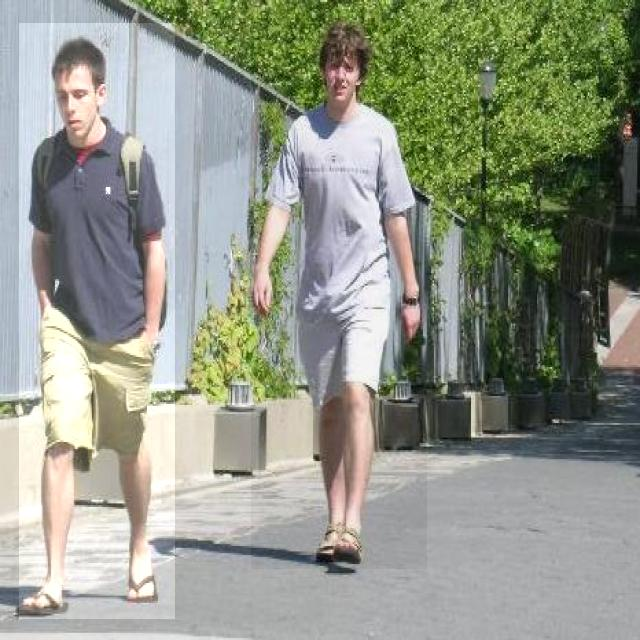with scooter: (251, 18, 427, 569), (19, 23, 175, 620)
